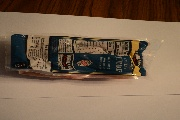chicken: (1, 26, 165, 82)
